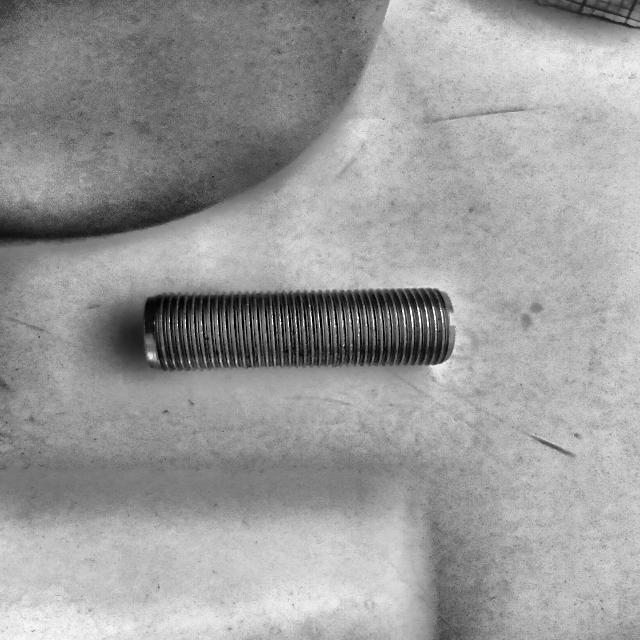Normal: (143, 288, 455, 372)
